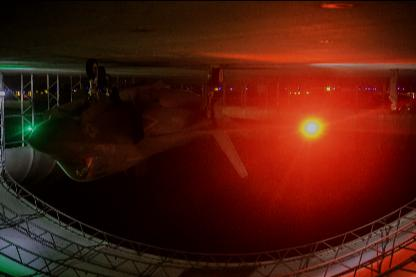F22: (26, 58, 320, 184)
